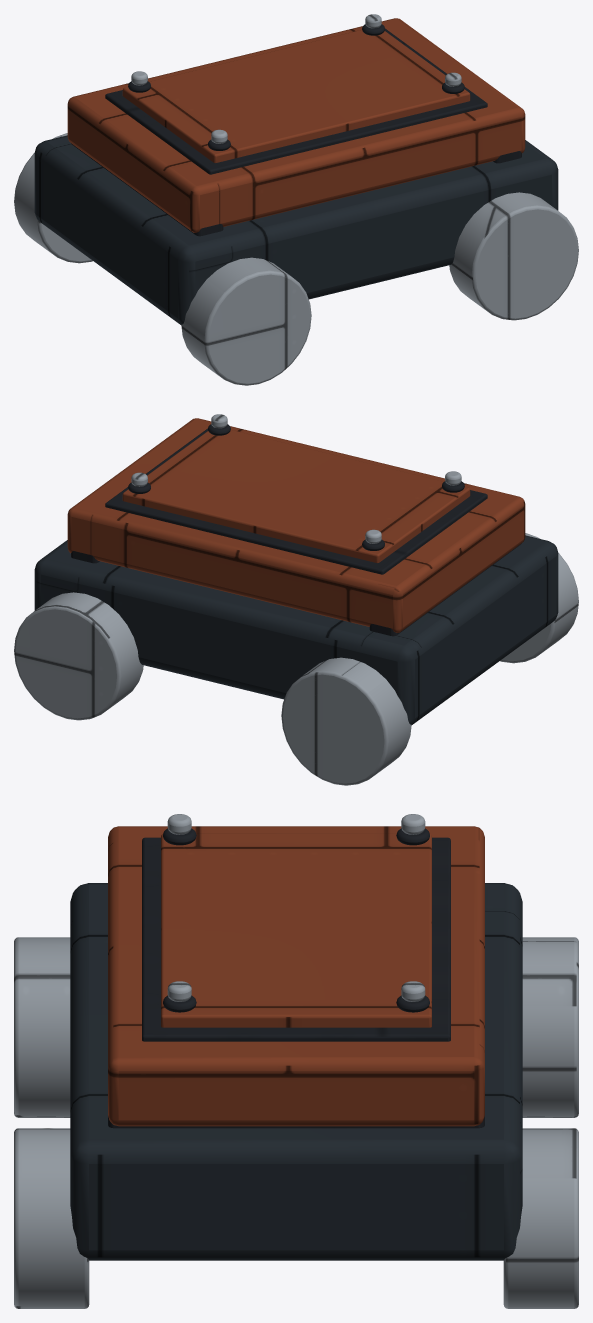
The model's file is ops_rail_carriage_lod0.glb.
The picture shows the model from 3 angles, top to bottom: view 1: azimuth 30°, elevation 25°; view 2: azimuth 150°, elevation 25°; view 3: azimuth 270°, elevation 25°; orthographic projection. The views are drawn at different scales.
Parts seen in each view (by area): view 1: LOD0_MOTION_CARRIAGE_TRANSLATION_Hull, LOD0_MOTION_CARRIAGE_TRANSLATION_Armor, LOD0_MOTION_CARRIAGE_TRANSLATION_BrushedMetal, LOD0_MOTION_CARRIAGE_TRANSLATION_MechanicalDark; view 2: LOD0_MOTION_CARRIAGE_TRANSLATION_Hull, LOD0_MOTION_CARRIAGE_TRANSLATION_Armor, LOD0_MOTION_CARRIAGE_TRANSLATION_BrushedMetal, LOD0_MOTION_CARRIAGE_TRANSLATION_MechanicalDark; view 3: LOD0_MOTION_CARRIAGE_TRANSLATION_Hull, LOD0_MOTION_CARRIAGE_TRANSLATION_Armor, LOD0_MOTION_CARRIAGE_TRANSLATION_BrushedMetal, LOD0_MOTION_CARRIAGE_TRANSLATION_MechanicalDark.
Boxes of the visible parts, x1,y1,x2,y2 form: LOD0_MOTION_CARRIAGE_TRANSLATION_Hull: (67,18,525,232); LOD0_MOTION_CARRIAGE_TRANSLATION_Armor: (34,135,558,324); LOD0_MOTION_CARRIAGE_TRANSLATION_BrushedMetal: (14,14,578,385); LOD0_MOTION_CARRIAGE_TRANSLATION_MechanicalDark: (71,24,521,236); LOD0_MOTION_CARRIAGE_TRANSLATION_Hull: (67,418,525,632); LOD0_MOTION_CARRIAGE_TRANSLATION_Armor: (34,535,558,724); LOD0_MOTION_CARRIAGE_TRANSLATION_BrushedMetal: (14,414,578,785); LOD0_MOTION_CARRIAGE_TRANSLATION_MechanicalDark: (71,424,521,636); LOD0_MOTION_CARRIAGE_TRANSLATION_Hull: (108,826,484,1126); LOD0_MOTION_CARRIAGE_TRANSLATION_Armor: (70,883,522,1260); LOD0_MOTION_CARRIAGE_TRANSLATION_BrushedMetal: (14,814,578,1308); LOD0_MOTION_CARRIAGE_TRANSLATION_MechanicalDark: (108,828,484,1128).
Bounding box in the file's own units: 1.7 × 0.89 × 1.5.
Materials: 4 (4 with a texture image).
